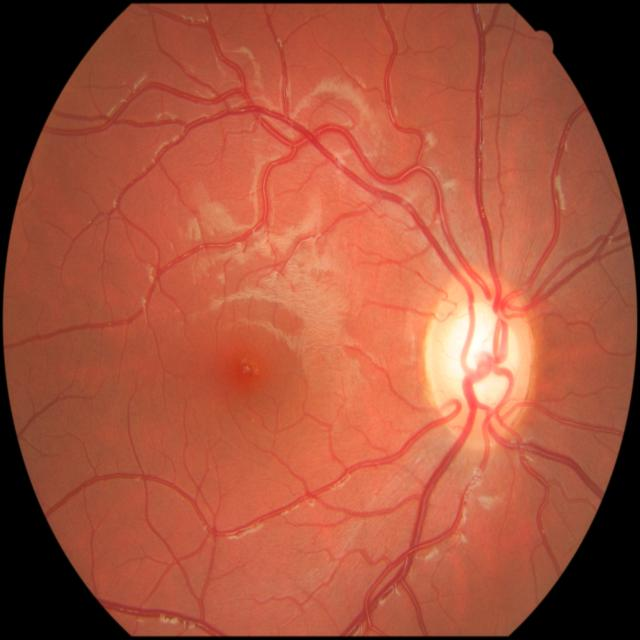OC: (446, 301, 520, 407)
OD: (424, 276, 533, 448)
